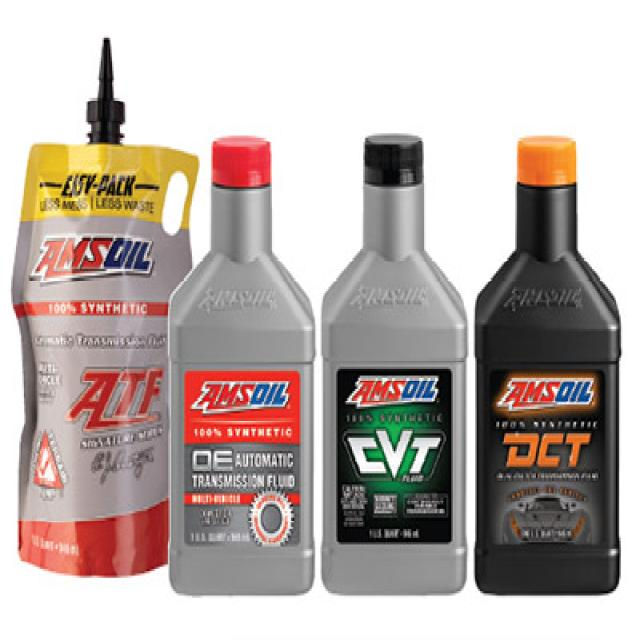-oil-: (164, 123, 320, 598), (476, 121, 624, 602), (323, 123, 467, 597)
